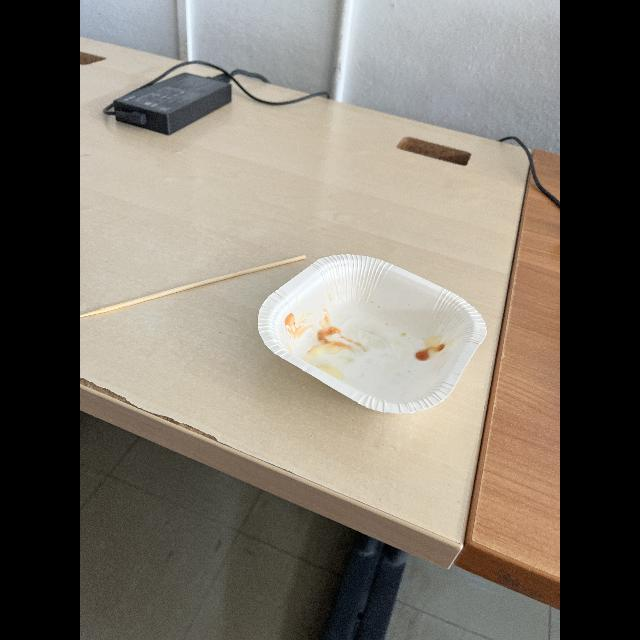cardboard_bowl: (252, 248, 490, 426)
stick: (80, 252, 306, 321)
